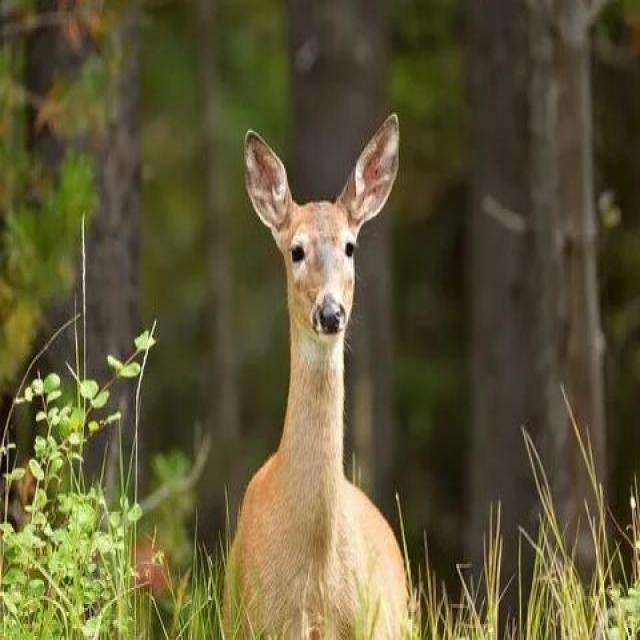deer: (197, 82, 465, 640)
